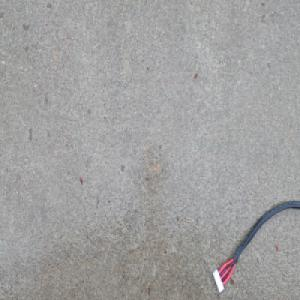Wire: (211, 200, 300, 294)
